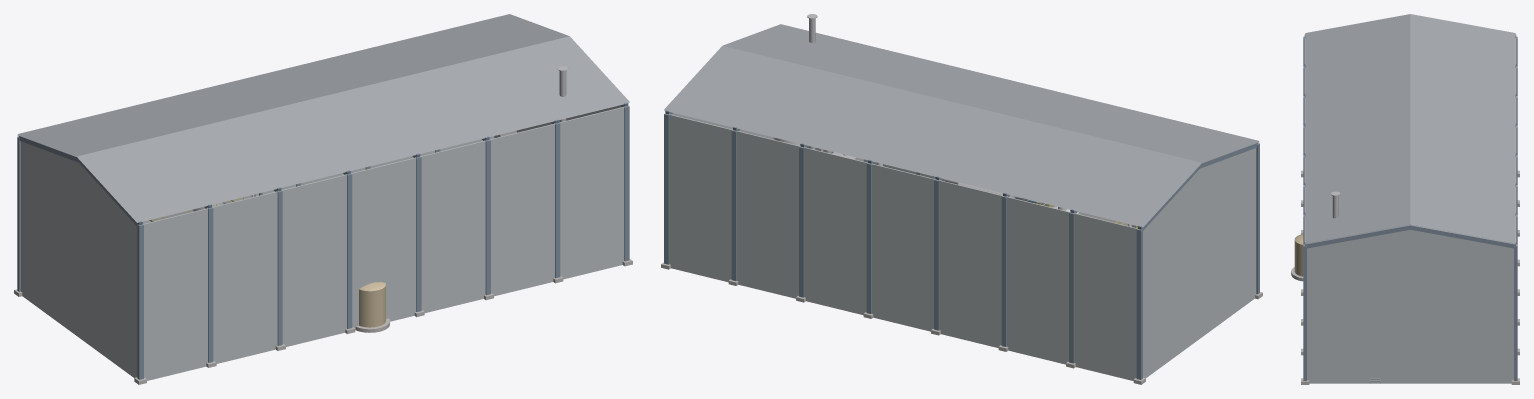
Rendered from SM_NickelSulfate.fbx.
3 views of the same model, side by side, from view 1: azimuth 30°, elevation 25°; view 2: azimuth 150°, elevation 25°; view 3: azimuth 270°, elevation 25° (orthographic). The views are drawn at different scales.
Visible parts, largest first — view 1: NIS_Building_Wall_S, NIS_Building_Roof, NIS_Building_Wall_W, NIS_Building_Frame, NIS_MotherLiquorTank, NIS_Building_Wall_N; view 2: NIS_Building_Wall_N, NIS_Building_Roof, NIS_Building_Wall_W, NIS_Building_Frame; view 3: NIS_Building_Roof, NIS_Building_Wall_E, NIS_Building_Frame, NIS_MotherLiquorTank, NIS_Building_Wall_N, NIS_Building_Wall_S.
Boxes of the visible parts, x1,y1,x2,y2 form: NIS_Building_Wall_S: (143, 106, 626, 380); NIS_Building_Roof: (17, 14, 629, 222); NIS_Building_Wall_W: (21, 141, 137, 377); NIS_Building_Frame: (14, 102, 632, 384); NIS_MotherLiquorTank: (355, 282, 389, 332); NIS_Building_Wall_N: (142, 136, 494, 223); NIS_Building_Wall_N: (667, 114, 1138, 380); NIS_Building_Roof: (664, 24, 1259, 227); NIS_Building_Wall_W: (1143, 148, 1256, 377); NIS_Building_Frame: (661, 110, 1262, 384); NIS_Building_Roof: (1305, 14, 1515, 244); NIS_Building_Wall_E: (1307, 230, 1513, 383); NIS_Building_Frame: (1301, 34, 1519, 384); NIS_MotherLiquorTank: (1291, 234, 1303, 281); NIS_Building_Wall_N: (1515, 38, 1516, 241); NIS_Building_Wall_S: (1304, 39, 1305, 241).
Bounding box in the file's own units: 4325 × 1611 × 1955.
